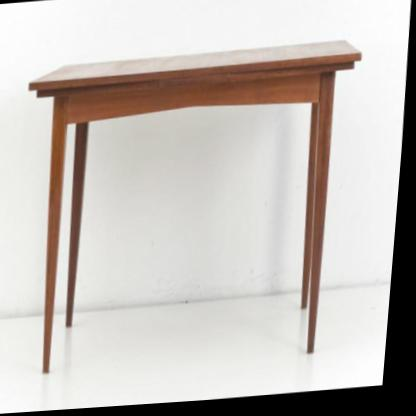Table: (1, 29, 374, 405)
